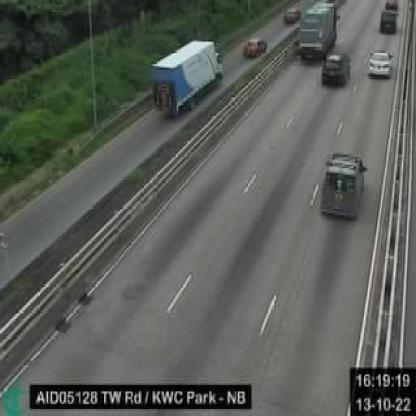Car: (321, 153, 367, 219), (322, 53, 349, 87), (367, 48, 392, 77), (244, 37, 267, 57), (382, 10, 398, 34), (284, 7, 302, 26), (386, 0, 397, 12)
Truck: (151, 40, 224, 115), (296, 1, 338, 60)
